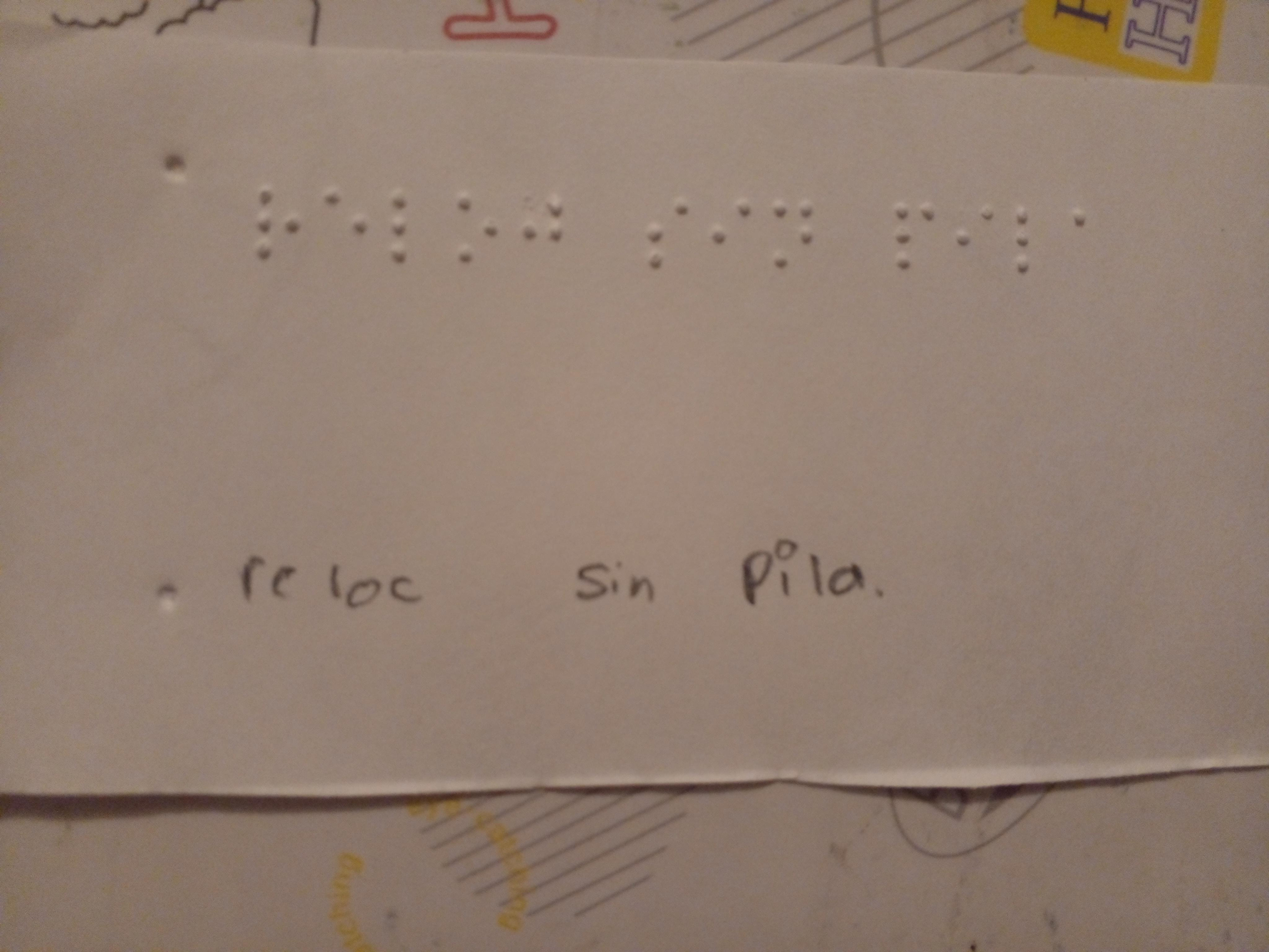a: (1047, 201, 1125, 276)
e: (301, 155, 380, 259)
i: (706, 189, 761, 274), (954, 192, 1001, 284)
j: (508, 167, 572, 294)
l: (380, 166, 423, 293), (1005, 197, 1043, 287)
n: (767, 191, 816, 288)
o: (441, 178, 503, 294)
p: (877, 180, 948, 288)
r: (245, 169, 313, 265)
s: (626, 186, 697, 287)
